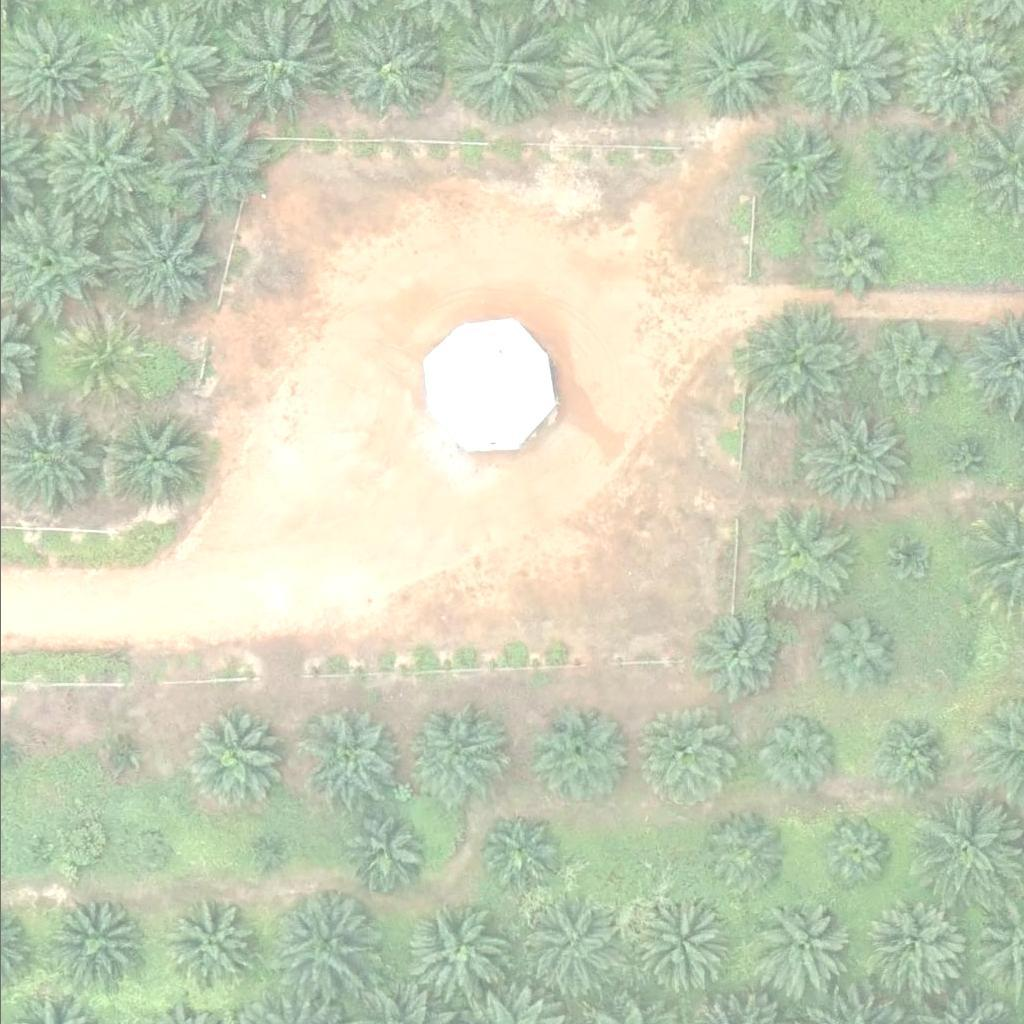Kelapa_Sawit: (904, 17, 1018, 130), (267, 887, 381, 1000), (104, 211, 218, 324), (153, 109, 267, 222), (781, 11, 894, 124), (677, 15, 790, 128), (554, 15, 667, 128), (442, 10, 555, 123), (743, 310, 856, 423), (742, 502, 856, 614), (47, 109, 161, 221), (214, 12, 328, 124), (793, 403, 906, 515), (101, 9, 214, 121), (408, 700, 509, 800), (859, 892, 960, 992), (747, 898, 848, 998), (629, 893, 730, 993), (297, 708, 398, 808), (189, 706, 290, 806), (102, 408, 203, 508), (336, 20, 436, 120), (635, 710, 735, 810), (528, 705, 628, 805), (516, 903, 616, 1003), (403, 905, 503, 1005), (749, 126, 838, 214), (695, 619, 783, 707), (52, 314, 140, 402), (860, 322, 948, 409), (810, 613, 898, 700), (860, 712, 948, 799), (751, 709, 839, 796), (696, 811, 784, 898), (169, 903, 257, 990), (47, 896, 135, 983), (340, 809, 428, 896), (862, 135, 938, 210), (480, 816, 556, 891), (812, 221, 887, 296), (817, 814, 892, 889), (939, 437, 990, 487), (883, 531, 934, 581), (947, 628, 997, 678), (127, 834, 165, 872), (255, 847, 280, 872), (25, 843, 50, 868), (105, 743, 130, 768)
